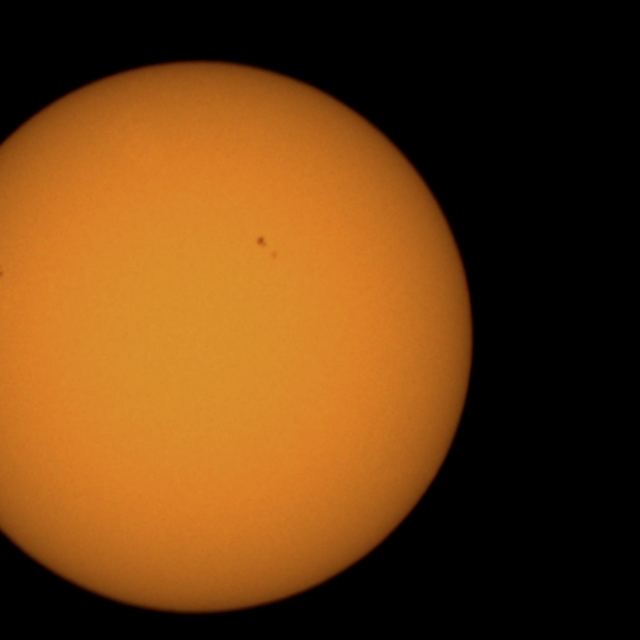sunspot: (255, 234, 278, 261), (0, 268, 4, 280)
